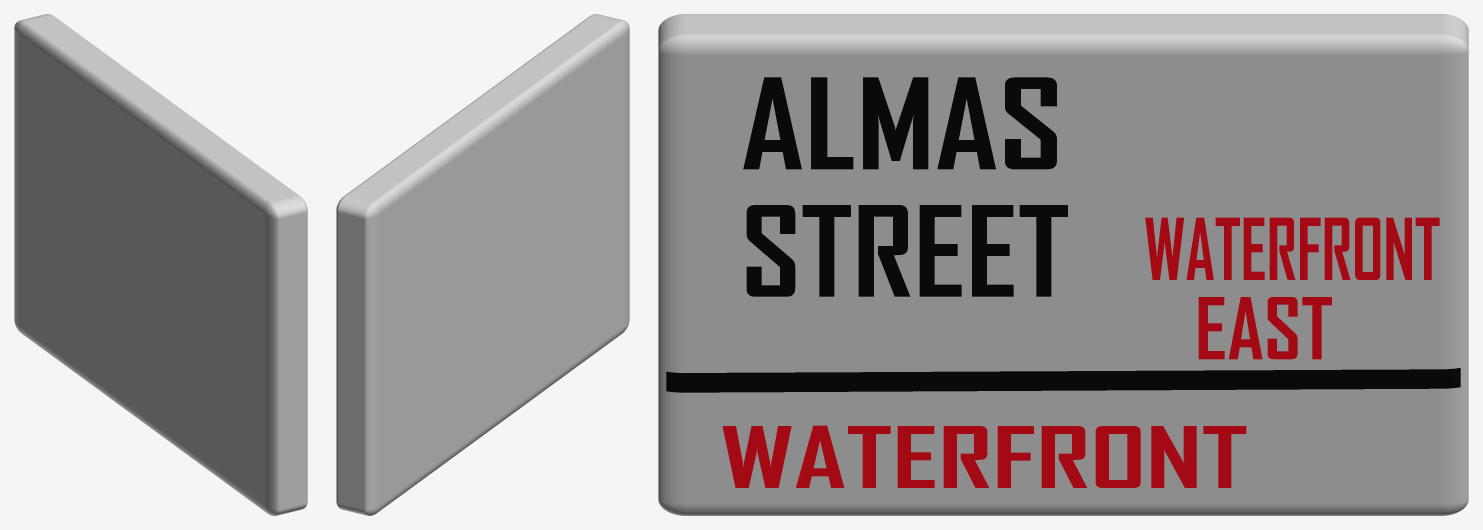
File: uk_styled_street_sign_19.fbx
3 renders of one model, left to right at view 1: azimuth 30°, elevation 25°; view 2: azimuth 150°, elevation 25°; view 3: azimuth 270°, elevation 25°, orthographic. The views are drawn at different scales.
Parts seen in each view (by area): view 1: Cube; view 2: Cube; view 3: Cube, Text.002, Text, Text.001, Text.003, Text.004.
Boxes of the visible parts, x1,y1,x2,y2 form: Cube: (14,14,307,515); Cube: (336,14,629,515); Cube: (658,14,1468,515); Text.002: (722,425,1246,487); Text: (743,77,1056,169); Text.001: (746,205,1067,296); Text.003: (1145,217,1439,279); Text.004: (1198,297,1331,359).
Bounding box in the file's own units: 1.63 × 11.91 × 18.18.
